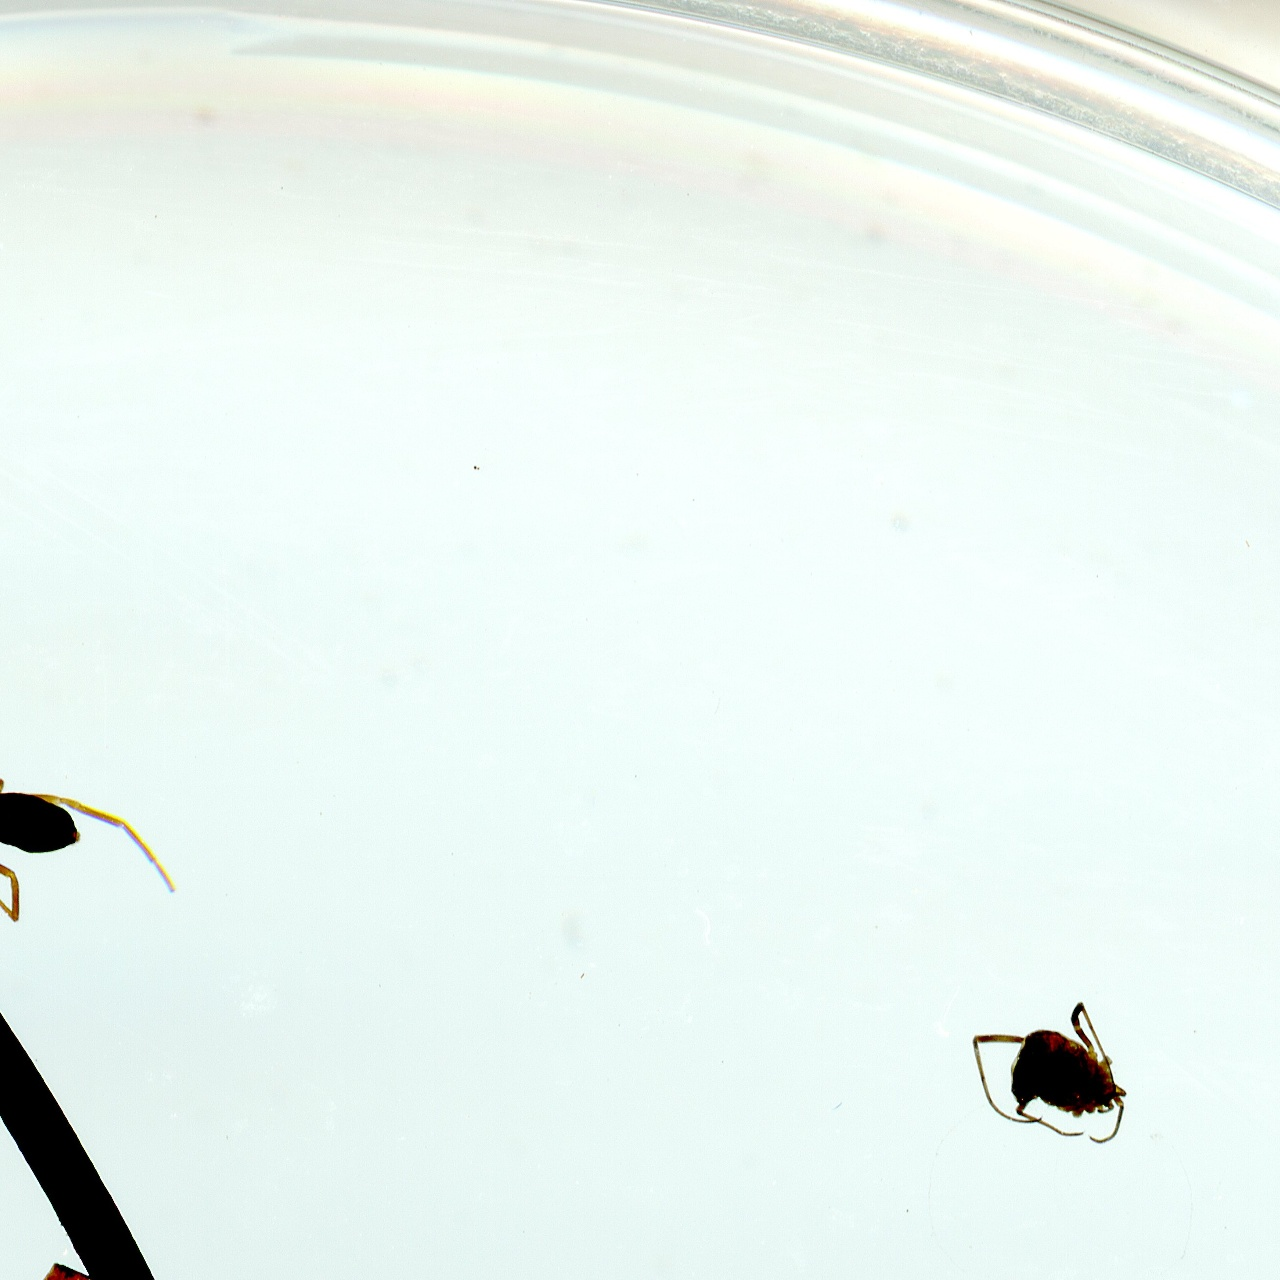arthropod: (0, 723, 195, 941), (952, 990, 1139, 1167)
